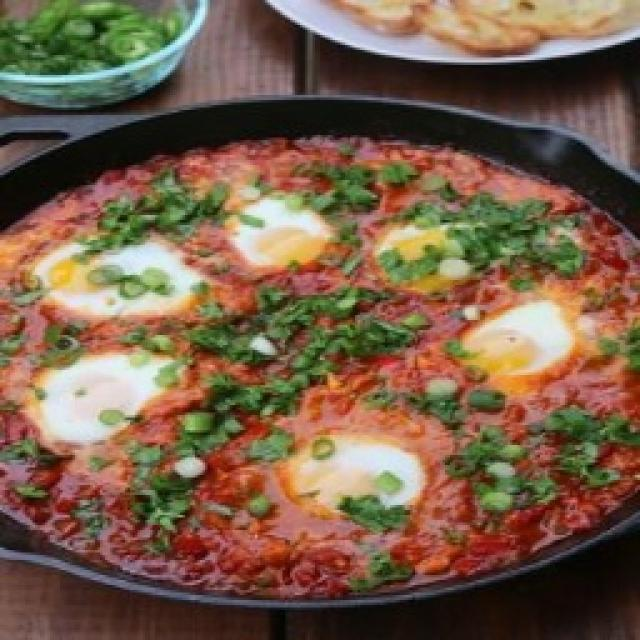Chakchouka: (0, 138, 640, 598)
